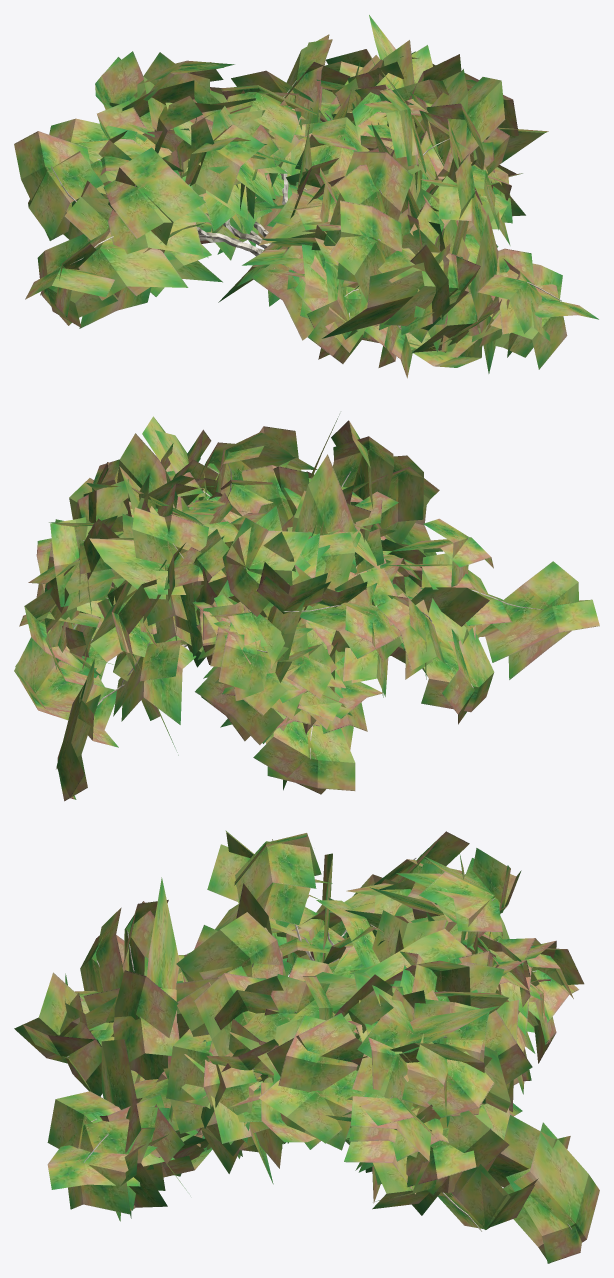
Rendered from bush_2.obj.
The picture shows the model from 3 angles, top to bottom: view 1: azimuth 30°, elevation 25°; view 2: azimuth 150°, elevation 25°; view 3: azimuth 270°, elevation 25°; orthographic projection. The views are drawn at different scales.
Parts seen in each view (by area): view 1: Bush_1_2; view 2: Bush_1_2; view 3: Bush_1_2.
Boxes of the visible parts, bbox=[...] form: Bush_1_2: bbox=[14, 15, 598, 378]; Bush_1_2: bbox=[14, 414, 599, 801]; Bush_1_2: bbox=[14, 830, 599, 1263].
Size of the model in its own units: 0.6237 by 0.3404 by 0.5426.
Materials: 1 (1 with a texture image).
